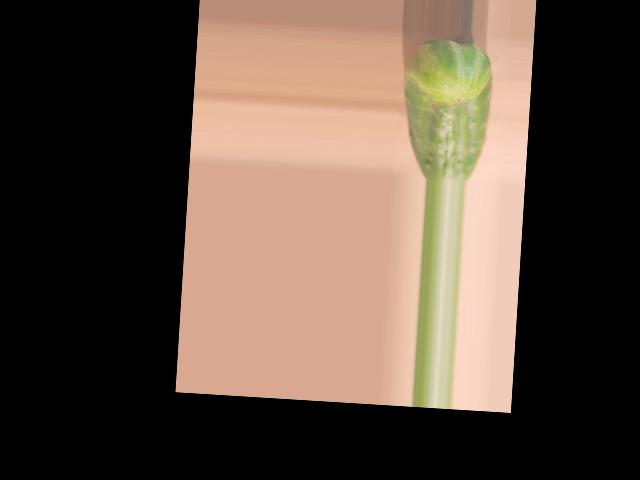cucumber: (398, 38, 495, 183)
